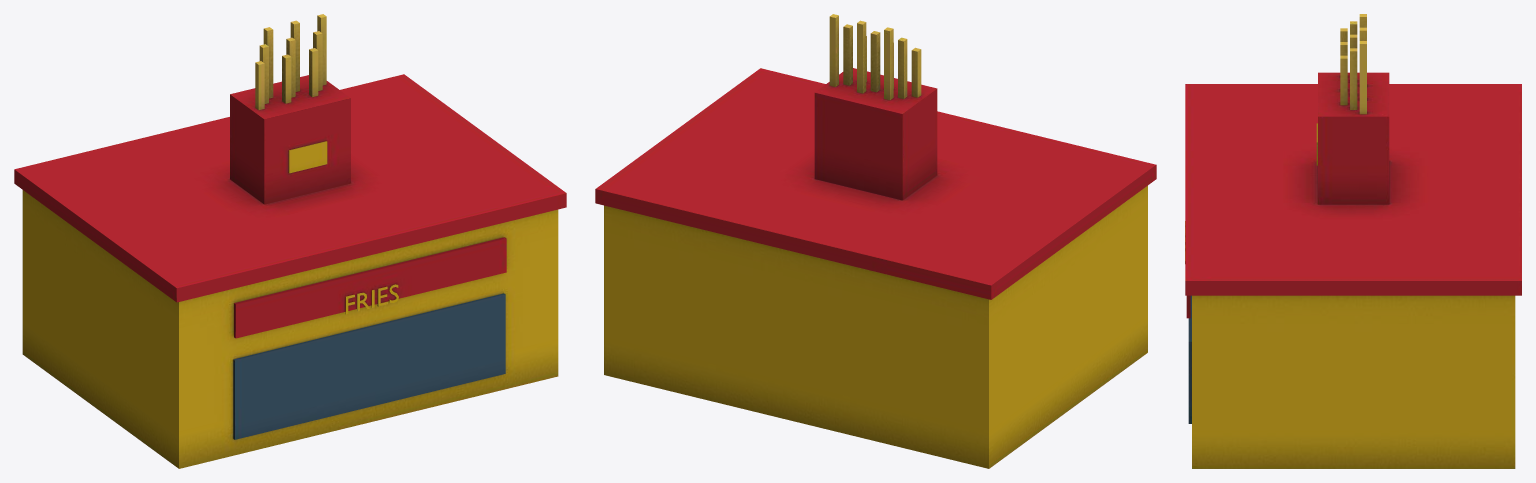
Rendered from freiduria.glb.
3 views of the same model, side by side, from view 1: azimuth 30°, elevation 25°; view 2: azimuth 150°, elevation 25°; view 3: azimuth 270°, elevation 25° (orthographic). The views are drawn at different scales.
Visible parts, largest first — view 1: freiduria; view 2: freiduria; view 3: freiduria.
Boxes of the visible parts, x1,y1,x2,y2 form: freiduria: (14,14,566,468); freiduria: (595,14,1156,468); freiduria: (1185,14,1521,468).
Size of the model in its own units: 14.4 by 11.9 by 10.41.
1 material, 1 textured.
